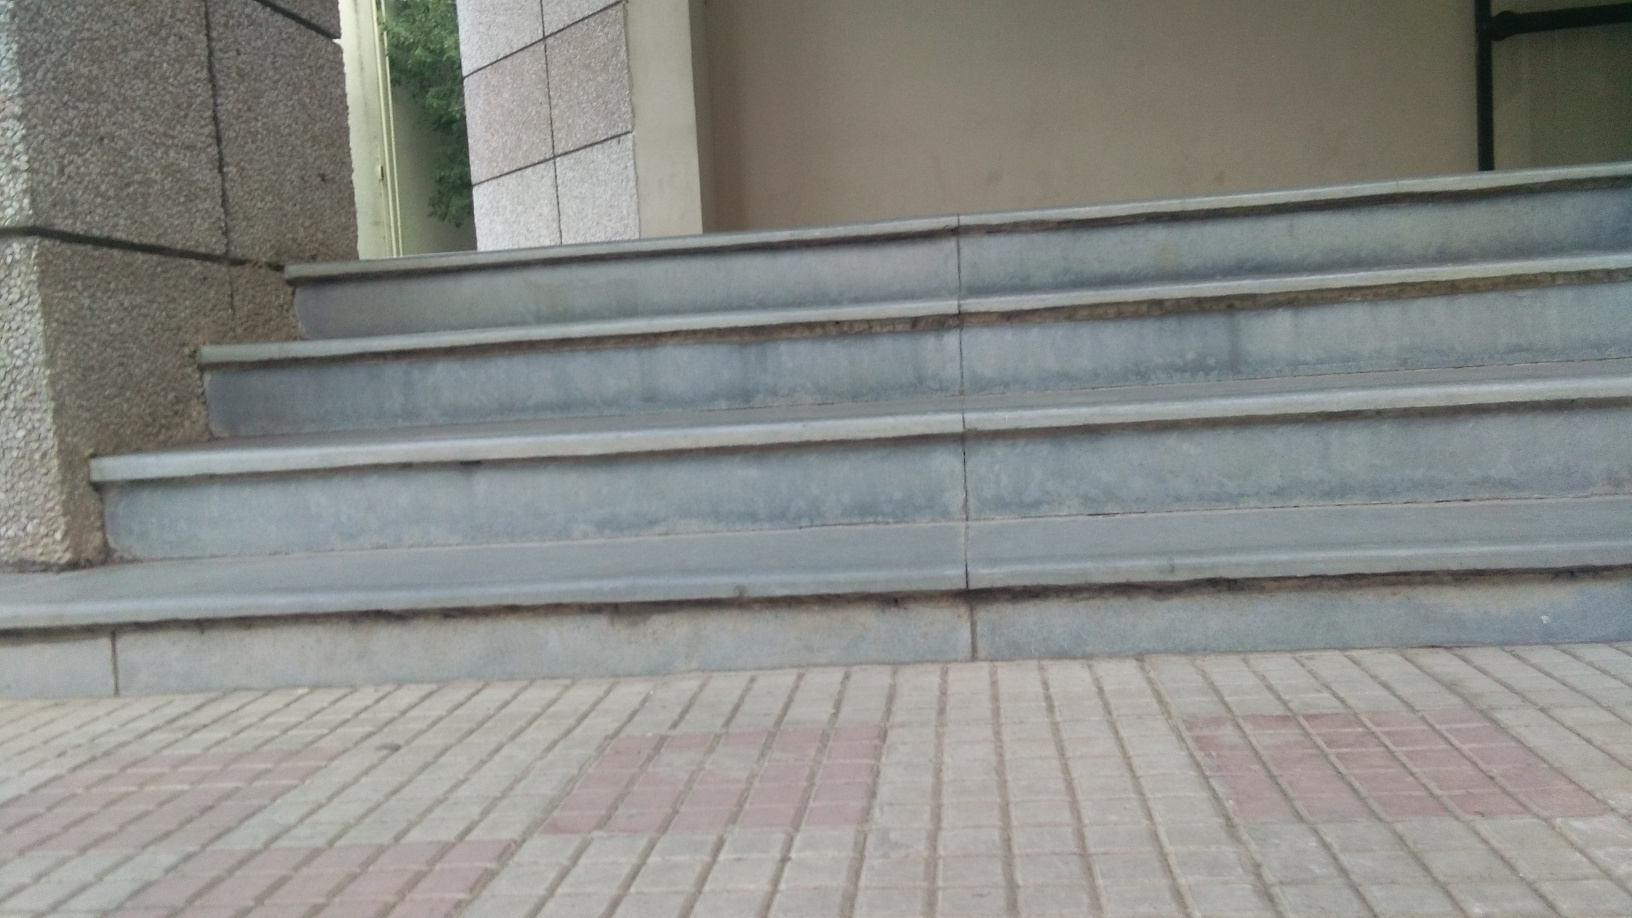stairs_up: (154, 245, 1632, 666)
